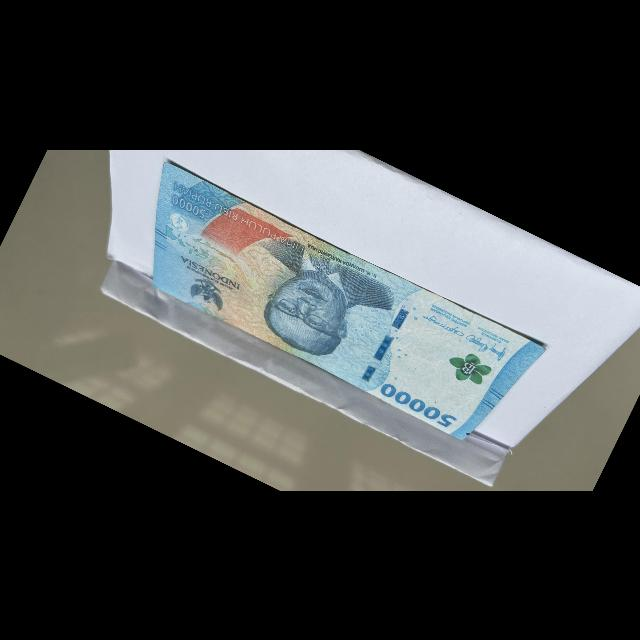Palsu-50k: (104, 155, 551, 459)
Tinta-Palsu-50k: (440, 343, 496, 393)
